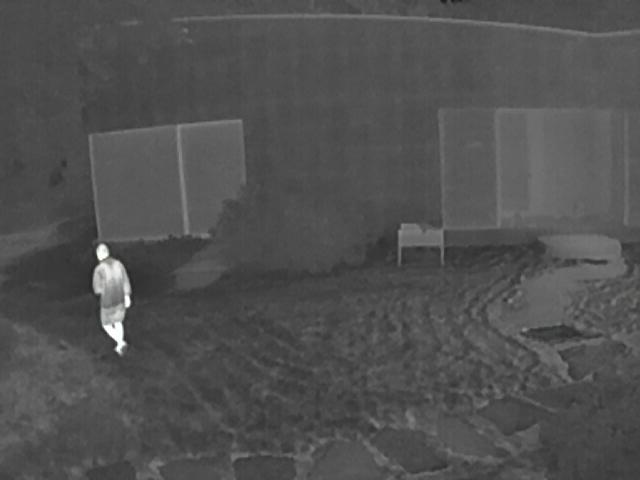person: (93, 243, 131, 358)
